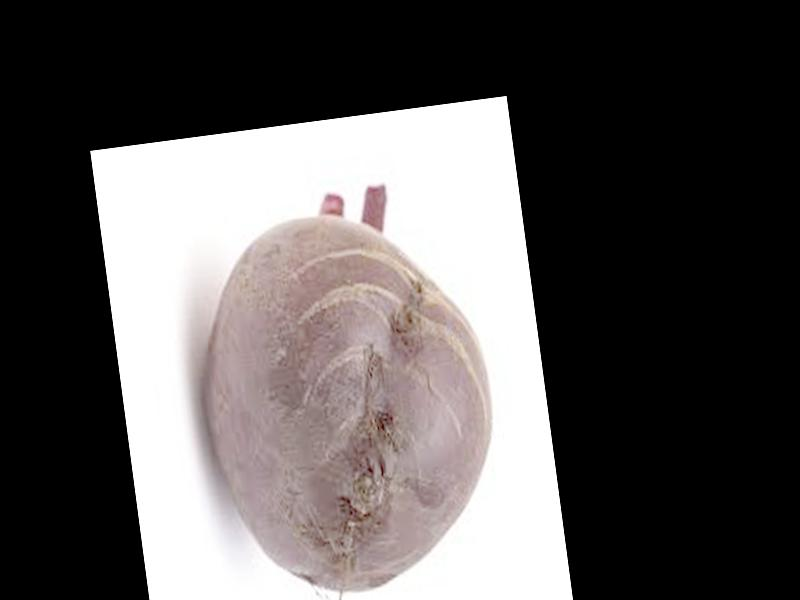Beet: (175, 177, 516, 600)
